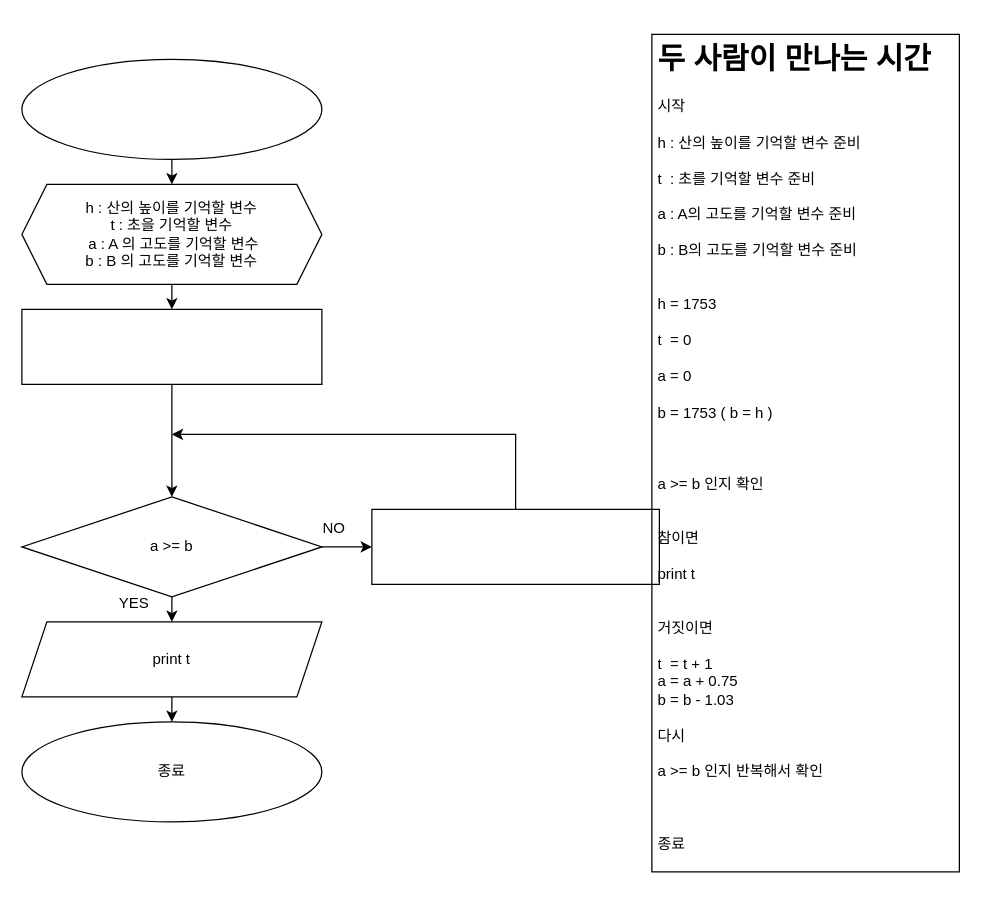
Image size: 981x904. Some labels were removed from this diagram. The centre of each missing label's shape, as x and y in pixels:
"h = 1753 t = 0 a = 0 b = 1753" belongs at (171,346).
"t = t +1 a = a + 0.75 b = b - 1.03" belongs at (515,546).
"시작" belongs at (171,108).
